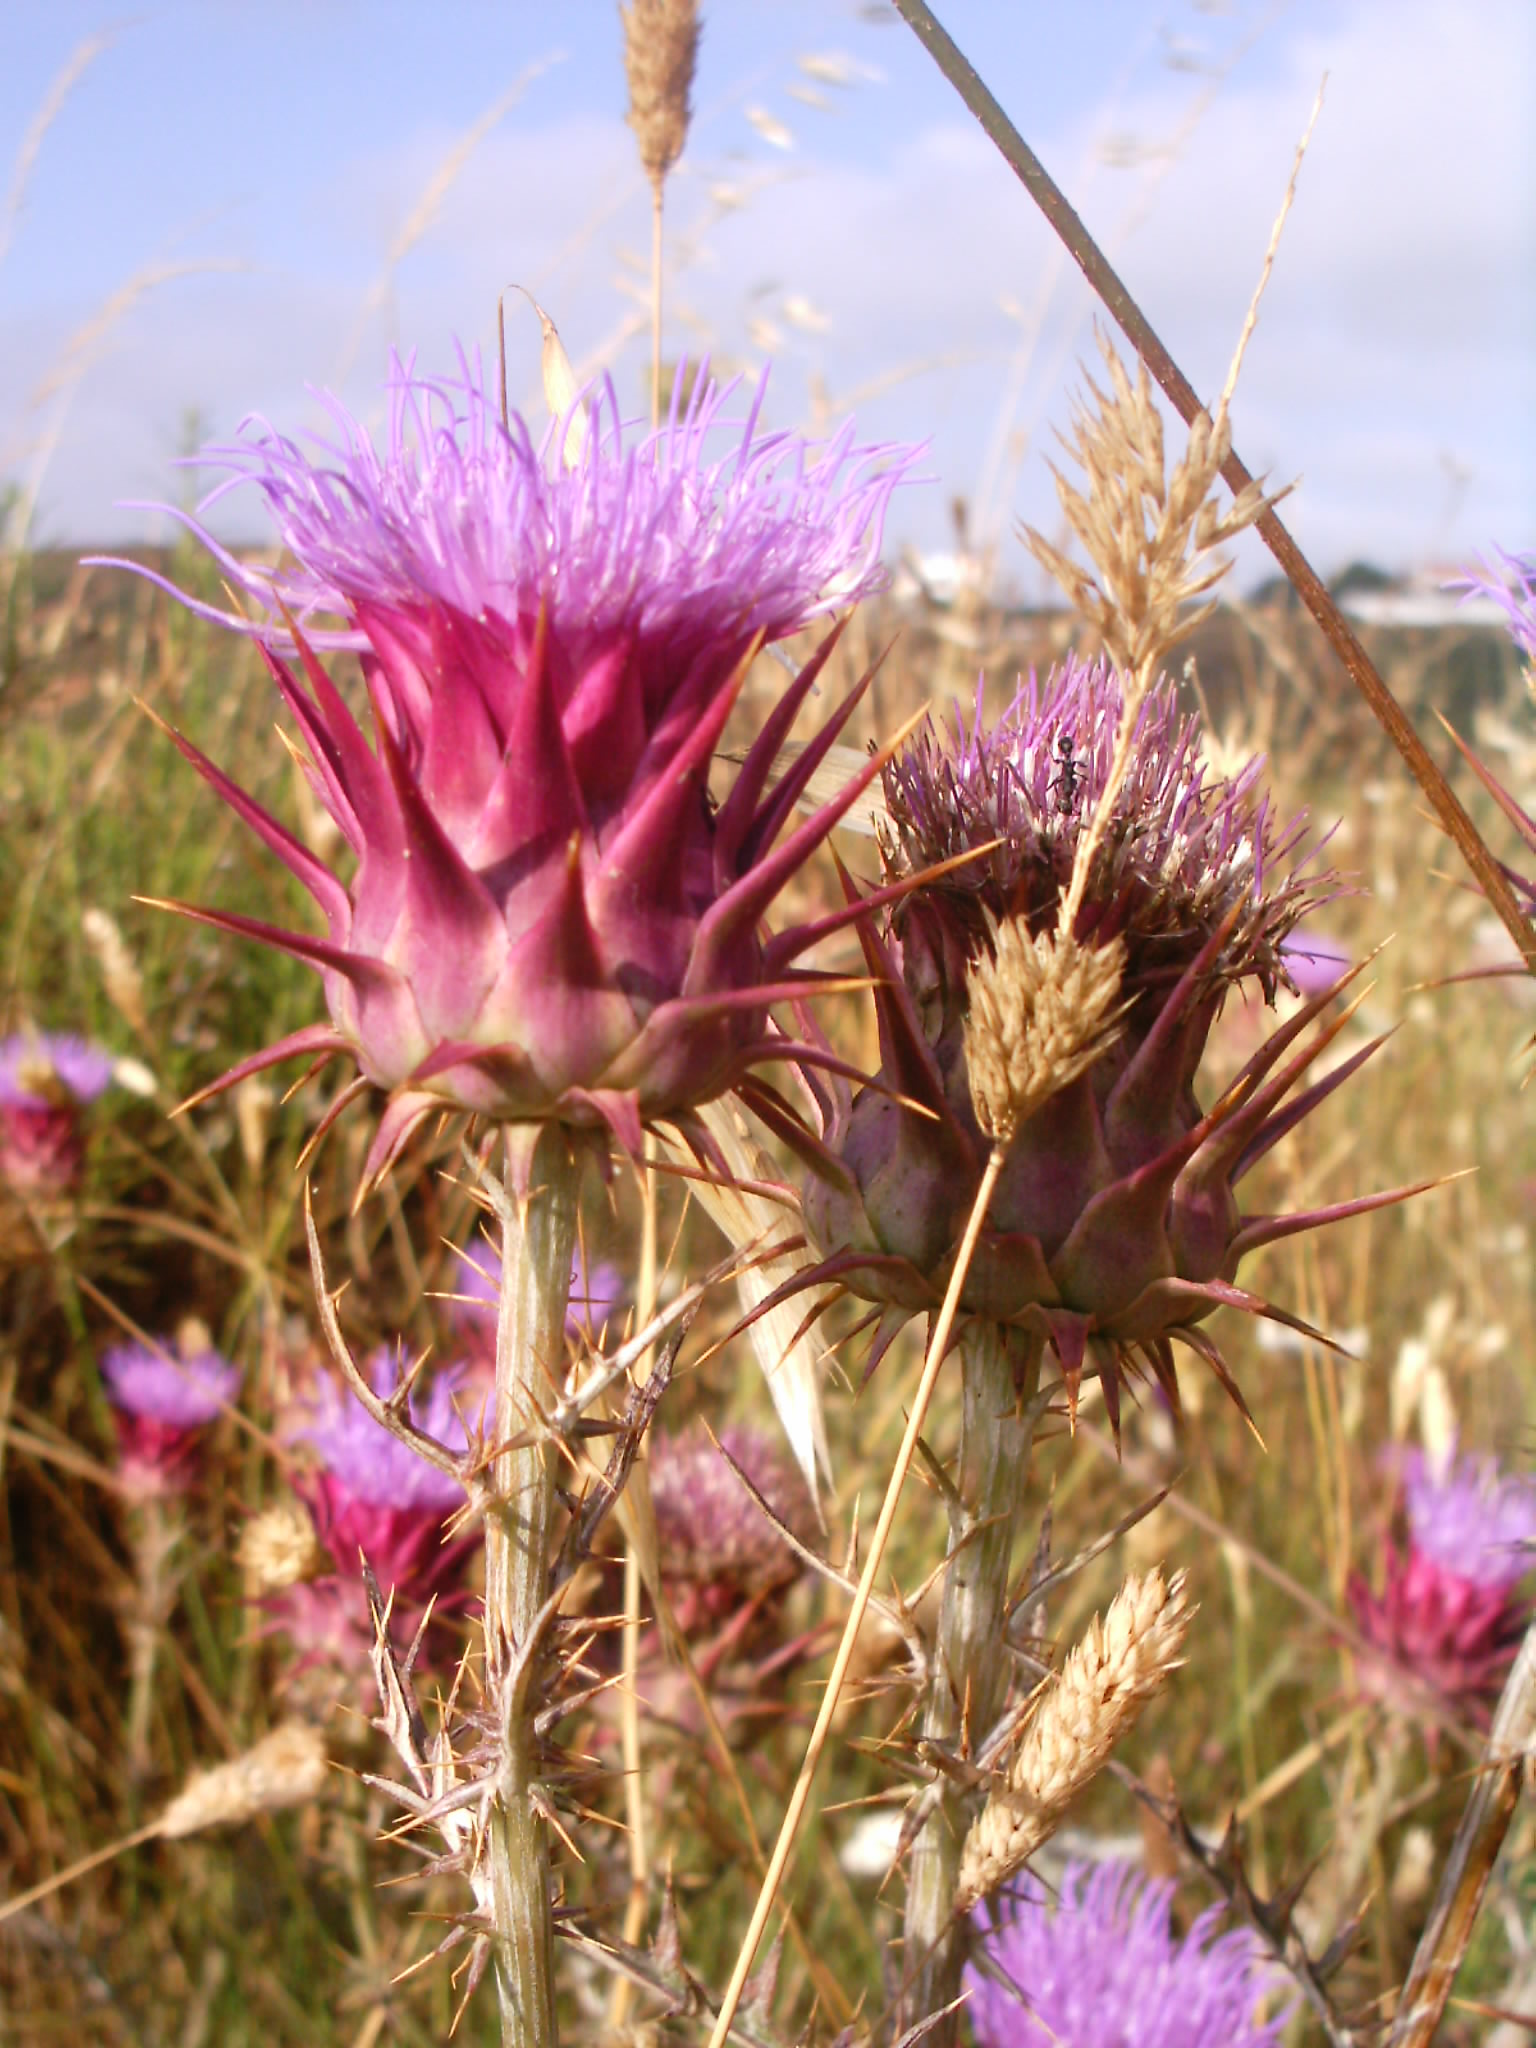thistle: (160, 389, 831, 1174), (865, 679, 1367, 1392), (278, 1363, 523, 1771), (957, 1871, 1288, 2048), (1370, 1451, 1536, 1742), (86, 1337, 250, 1514)
